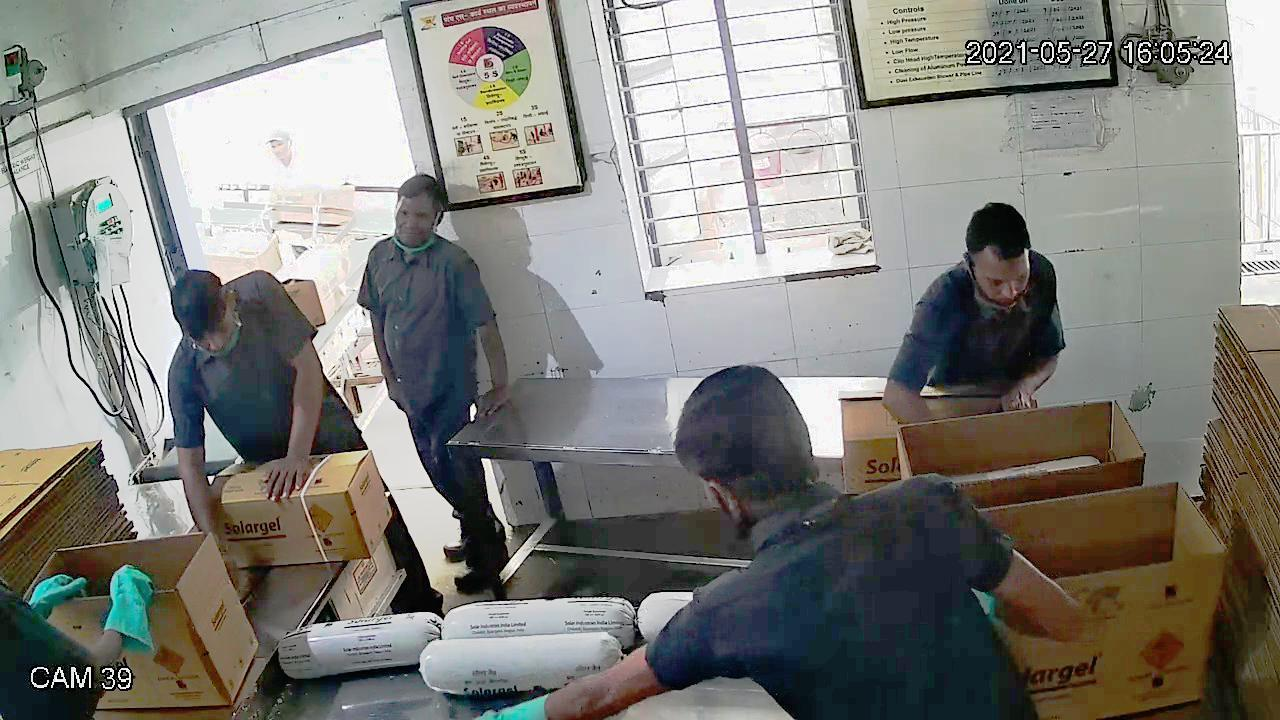no-welding-glass: (969, 259, 1034, 301)
person: (541, 363, 1039, 718), (355, 171, 513, 603), (883, 202, 1068, 427)
